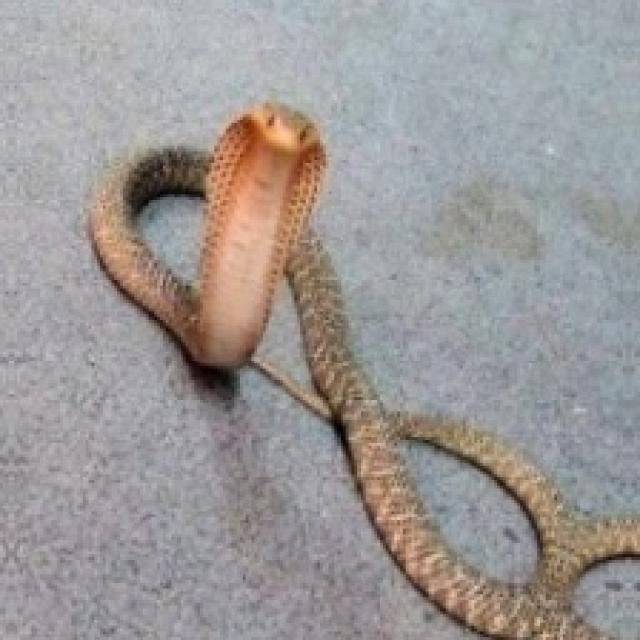philippine cobra: (89, 103, 637, 637)
